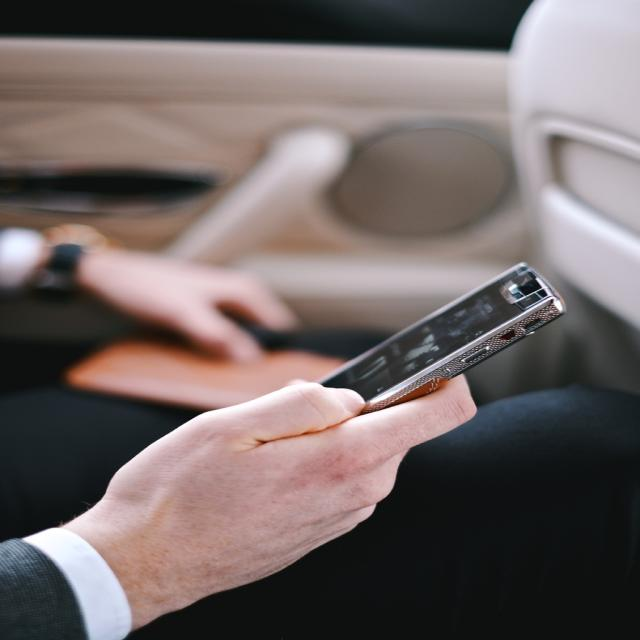Mobile-phone: (315, 266, 563, 416)
